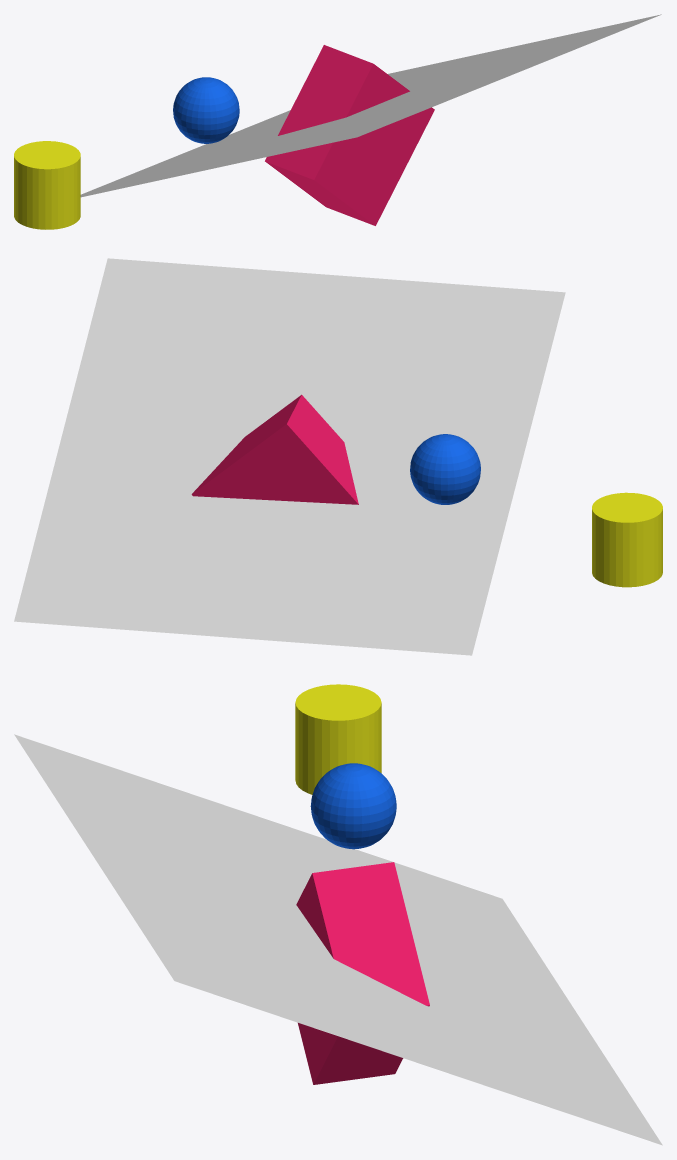
The model's file is two.glb.
The picture shows the model from 3 angles, top to bottom: view 1: azimuth 30°, elevation 25°; view 2: azimuth 150°, elevation 25°; view 3: azimuth 270°, elevation 25°; orthographic projection. The views are drawn at different scales.
Parts seen in each view (by area): view 1: Cube, Plane, Cylinder, Sphere; view 2: Plane, Cube, Cylinder, Sphere; view 3: Plane, Cube, Cylinder, Sphere.
Boxes of the visible parts, x1,y1,x2,y2 form: Cube: (265,45,434,225); Plane: (80,14,661,197); Cylinder: (14,141,80,229); Sphere: (173,77,239,143); Plane: (14,258,565,655); Cube: (191,394,358,504); Cylinder: (592,492,662,587); Sphere: (410,434,480,504); Plane: (14,734,662,1145); Cube: (296,862,429,1084); Cylinder: (295,684,381,794); Sphere: (310,763,396,849).
Size of the model in its own units: 20.07 by 6.83 by 15.08.
